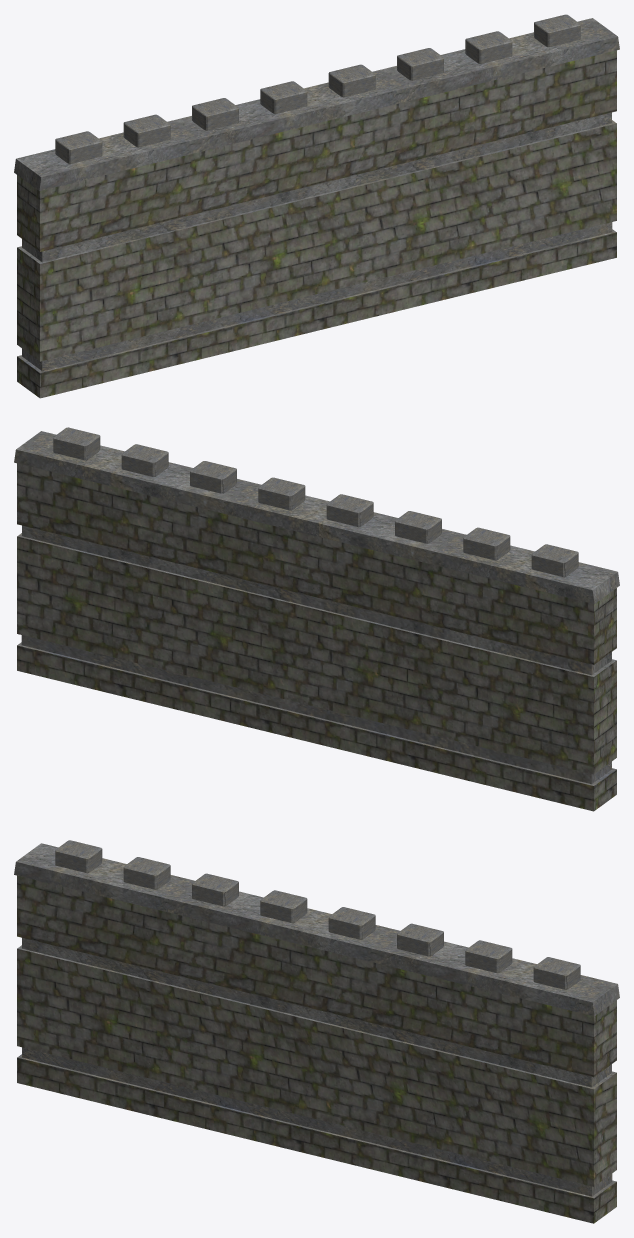
Rendered from tower_and_castle_walls_1_B4BB0D62.glb.
3 views of the same model, one above another, from view 1: azimuth 30°, elevation 25°; view 2: azimuth 150°, elevation 25°; view 3: azimuth 330°, elevation 25° (orthographic).
Parts seen in each view (by area): view 1: tower_and_castle_walls_1_B4BB0D62; view 2: tower_and_castle_walls_1_B4BB0D62; view 3: tower_and_castle_walls_1_B4BB0D62.
Part boxes in pixels (x1,y1,x2,y2): tower_and_castle_walls_1_B4BB0D62: [14, 14, 619, 398]; tower_and_castle_walls_1_B4BB0D62: [14, 427, 619, 811]; tower_and_castle_walls_1_B4BB0D62: [14, 840, 619, 1223].
Bounding box in the file's own units: 11.99 × 4.7 × 0.9097.
1 material, 1 textured.
